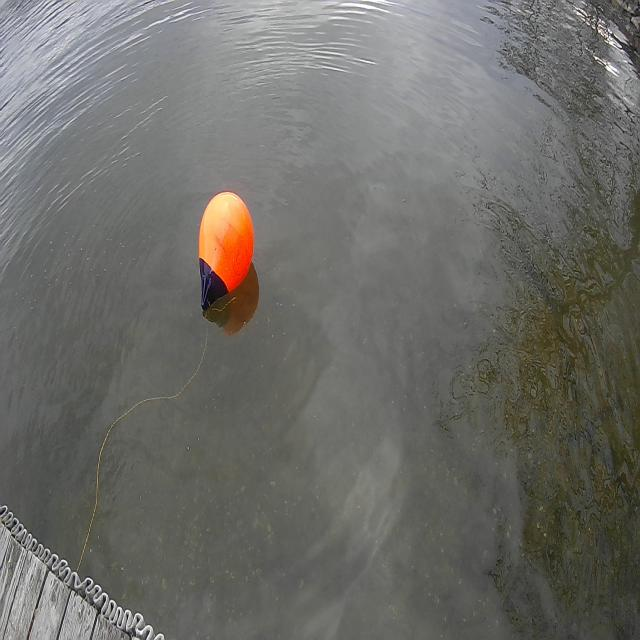Buoy: (186, 178, 261, 324)
